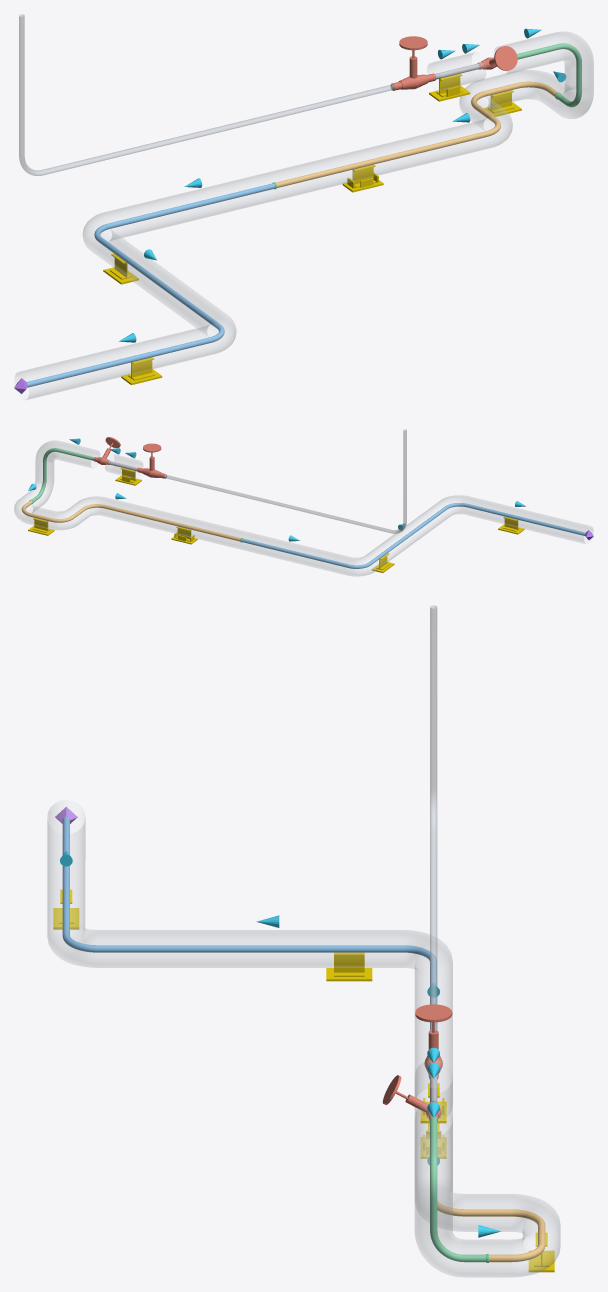
The model's file is 1LCN30_DRG2_DN40_3D_Model.fbx.
3 views of the same model, one above another, from view 1: azimuth 30°, elevation 25°; view 2: azimuth 150°, elevation 25°; view 3: azimuth 270°, elevation 25° (orthographic). The views are drawn at different scales.
Visible parts, largest first — view 1: INSULATION SPOOL 1, INSULATION SPOOL 2, INSULATION SPOOL 3, PIPE SPOOL 1, DRG 1 CONTINUATION (ASSUMED), PIPE SPOOL 2, INSULATION ITEM <8>, VALVE 1LCN30AA400, FLOW DIRECTION, PIPE SPOOL 3, SUPPORT 1LCN30BQ036, SUPPORT 1LCN30BQ035 (+4 smaller); view 2: INSULATION SPOOL 1, INSULATION SPOOL 2, INSULATION SPOOL 3, PIPE SPOOL 1, DRG 1 CONTINUATION (ASSUMED), PIPE SPOOL 2, INSULATION ITEM <8>, VALVE 1LCN30AA400, PIPE SPOOL 3, FLOW DIRECTION, SUPPORT 1LCN30BQ036, SUPPORT 1LCN30BQ070 (+4 smaller); view 3: INSULATION SPOOL 1, INSULATION SPOOL 2, INSULATION SPOOL 3, PIPE SPOOL 1, DRG 1 CONTINUATION (ASSUMED), PIPE SPOOL 2, PIPE SPOOL 3, INSULATION ITEM <8>, SUPPORT 1LCN30BQ037, FLOW DIRECTION, VALVE 1LCN30AA400.
Part boxes in pixels (x1,y1,x2,y2): INSULATION SPOOL 1: [15, 172, 281, 399]; INSULATION SPOOL 2: [267, 70, 570, 199]; INSULATION SPOOL 3: [494, 31, 593, 118]; PIPE SPOOL 1: [27, 183, 274, 387]; DRG 1 CONTINUATION (ASSUMED): [19, 14, 393, 175]; PIPE SPOOL 2: [276, 81, 557, 187]; INSULATION ITEM <8>: [427, 52, 485, 90]; VALVE 1LCN30AA400: [391, 36, 435, 90]; FLOW DIRECTION: [118, 28, 566, 342]; PIPE SPOOL 3: [517, 43, 581, 107]; SUPPORT 1LCN30BQ036: [342, 164, 383, 192]; SUPPORT 1LCN30BQ035: [429, 74, 470, 101]; INSULATION SPOOL 1: [237, 495, 592, 576]; INSULATION SPOOL 2: [14, 493, 245, 548]; INSULATION SPOOL 3: [24, 440, 99, 509]; PIPE SPOOL 1: [241, 503, 585, 568]; DRG 1 CONTINUATION (ASSUMED): [165, 429, 406, 533]; PIPE SPOOL 2: [21, 500, 240, 541]; INSULATION ITEM <8>: [105, 454, 142, 478]; VALVE 1LCN30AA400: [137, 443, 165, 478]; PIPE SPOOL 3: [32, 448, 94, 502]; FLOW DIRECTION: [28, 438, 525, 541]; SUPPORT 1LCN30BQ036: [171, 526, 197, 544]; SUPPORT 1LCN30BQ070: [498, 516, 524, 534]; INSULATION SPOOL 1: [47, 800, 452, 1070]; INSULATION SPOOL 2: [415, 1050, 560, 1277]; INSULATION SPOOL 3: [415, 1102, 487, 1277]; PIPE SPOOL 1: [62, 817, 436, 1030]; DRG 1 CONTINUATION (ASSUMED): [430, 605, 437, 1030]; PIPE SPOOL 2: [437, 1201, 545, 1262]; PIPE SPOOL 3: [430, 1116, 486, 1262]; INSULATION ITEM <8>: [415, 1060, 452, 1120]; SUPPORT 1LCN30BQ037: [326, 952, 372, 981]; FLOW DIRECTION: [60, 851, 500, 1237]; VALVE 1LCN30AA400: [415, 1004, 452, 1079].
Size of the model in its own units: 6971 by 3330 by 2338.
